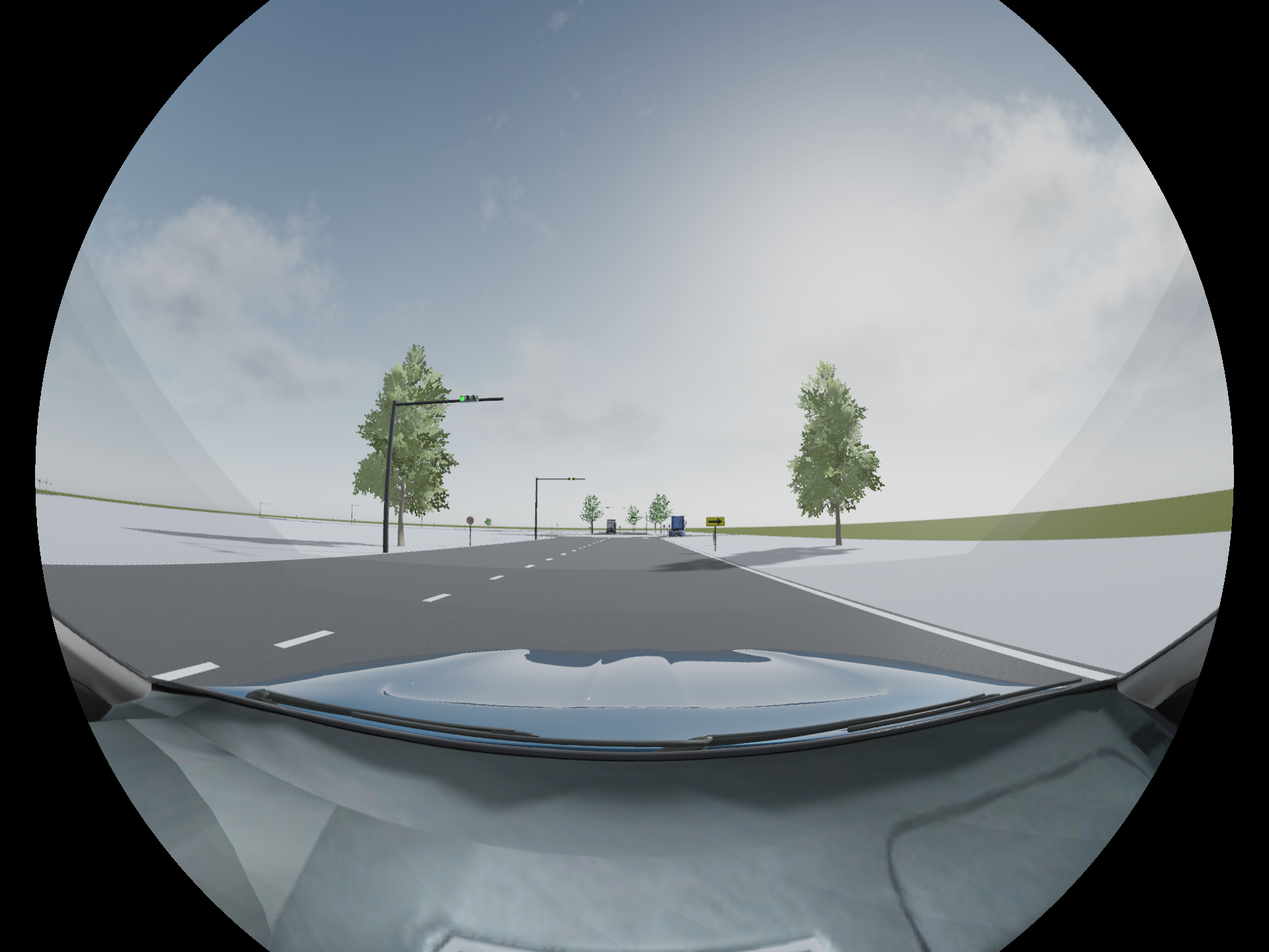Green Light: (459, 395, 479, 403)
Red Light: (567, 477, 576, 481)
Speed Limit 30: (466, 516, 474, 524)
